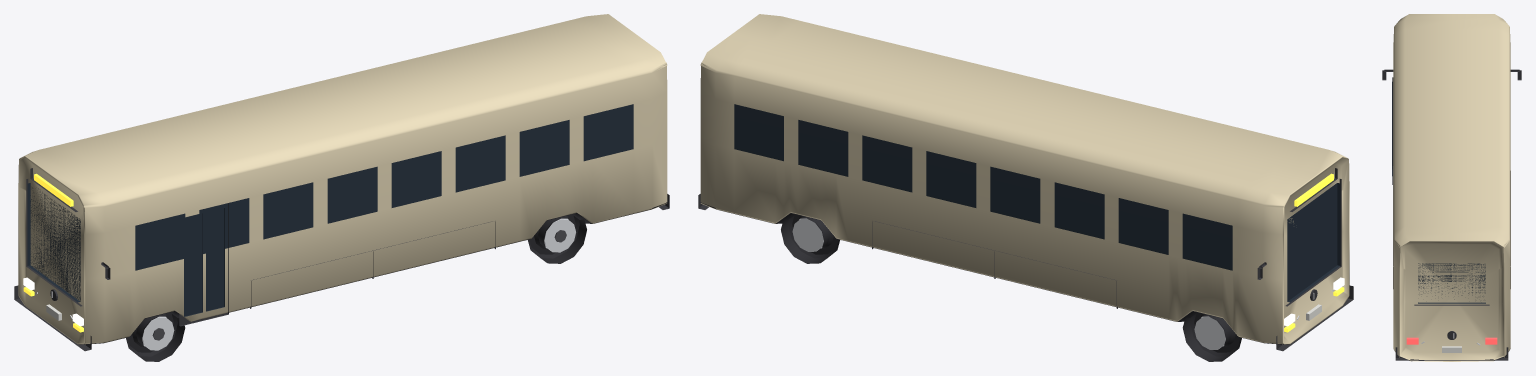
Rendered from bus_coach.glb.
The picture shows the model from 3 angles, left to right: view 1: azimuth 30°, elevation 25°; view 2: azimuth 150°, elevation 25°; view 3: azimuth 270°, elevation 25°; orthographic projection. The views are drawn at different scales.
Size of the model in its own units: 1.9 by 0.5531 by 0.4911.
